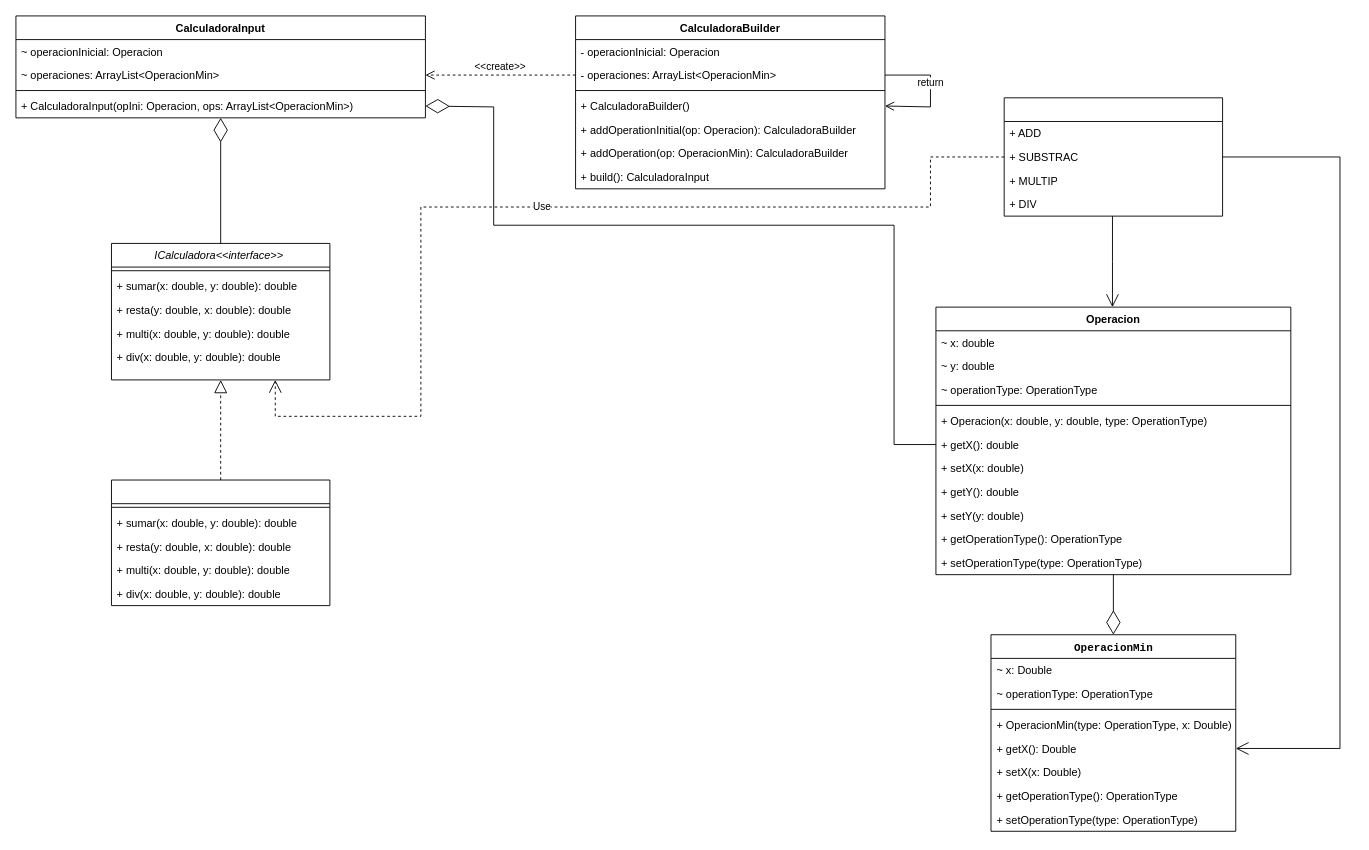
Some shapes in this 1369 by 850 pixel diagram are drawn without their labels. The box of each missing label's shape, as (x1, y1, x2, y2) in pixels:
Calculadora: (111, 479, 330, 606)
OperationType «enumeration»: (1003, 97, 1223, 216)
